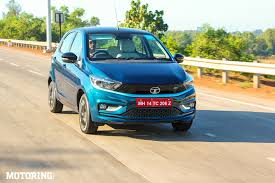Tiago: (45, 25, 200, 135)
